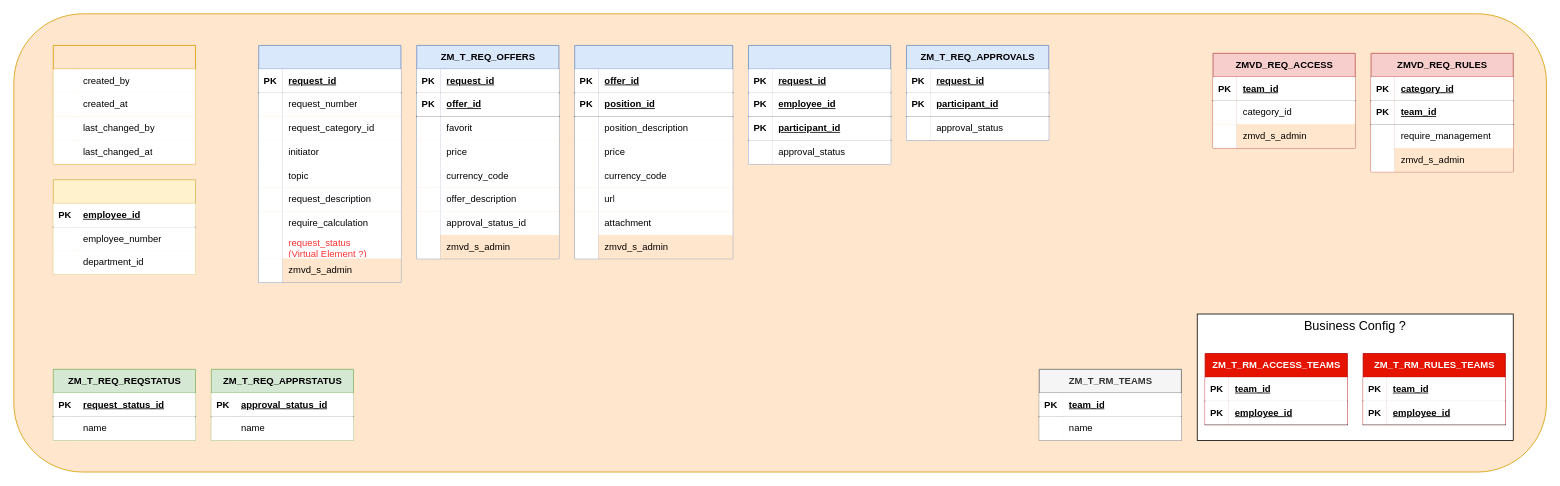
This 1560x486 diagram has some shape labels left out. The shapes that lost their labels are listed below. From the top down, each one's box as (x1, y1, x2, y2) in pixels, then its label:
(53, 45, 196, 164): ZMD_S_ADMIN
(748, 45, 891, 164): ZM_T_REQ_PARTICIPANTS
(258, 45, 401, 282): ZM_T_REQ_REQUESTS
(574, 45, 733, 259): ZM_T_REQ_OFFERPOSITIONS
(53, 179, 196, 275): ZMVD_EMPLOYEE
